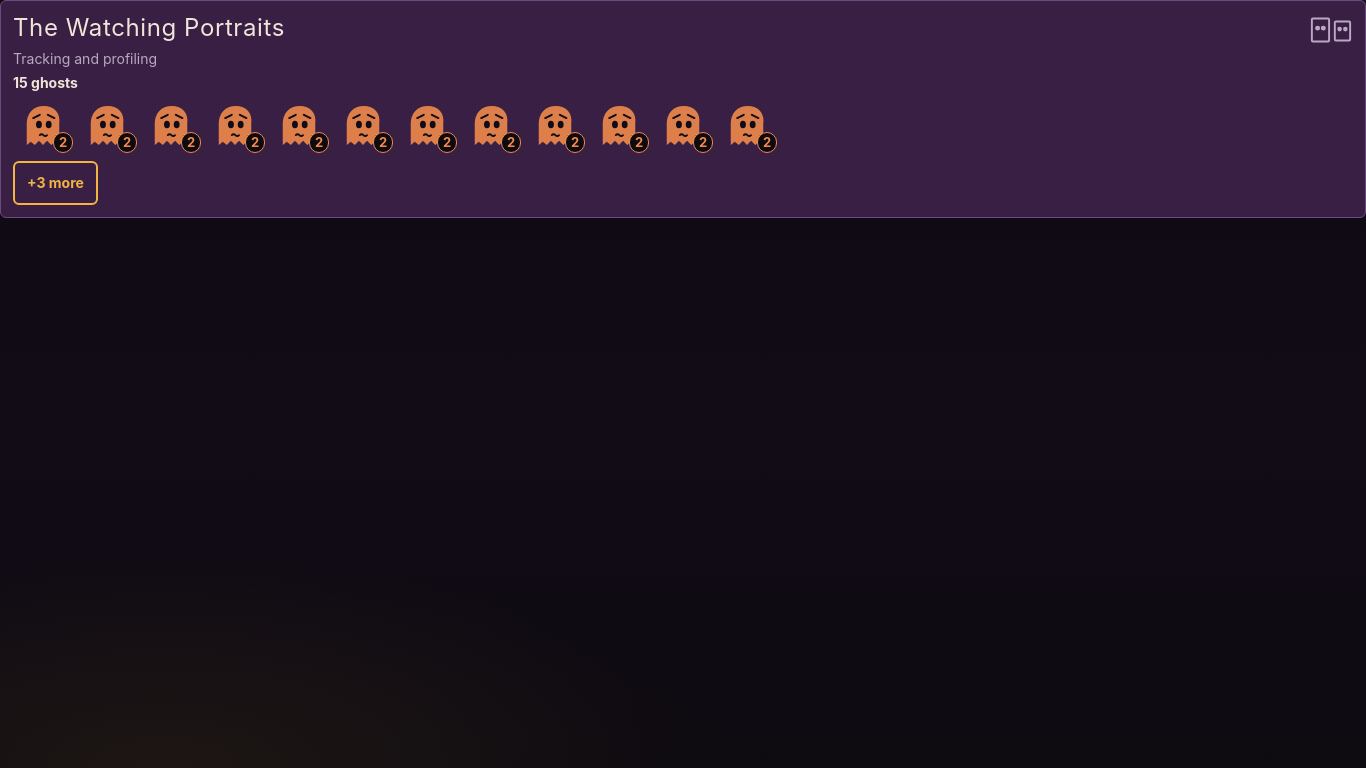
Test: Room with more than 12 ghosts (C22.2, C22.3) › expands in place by mouse, and collapses again
Click the button "+3 more". click: (55, 183)
box: [13,161,98,205]
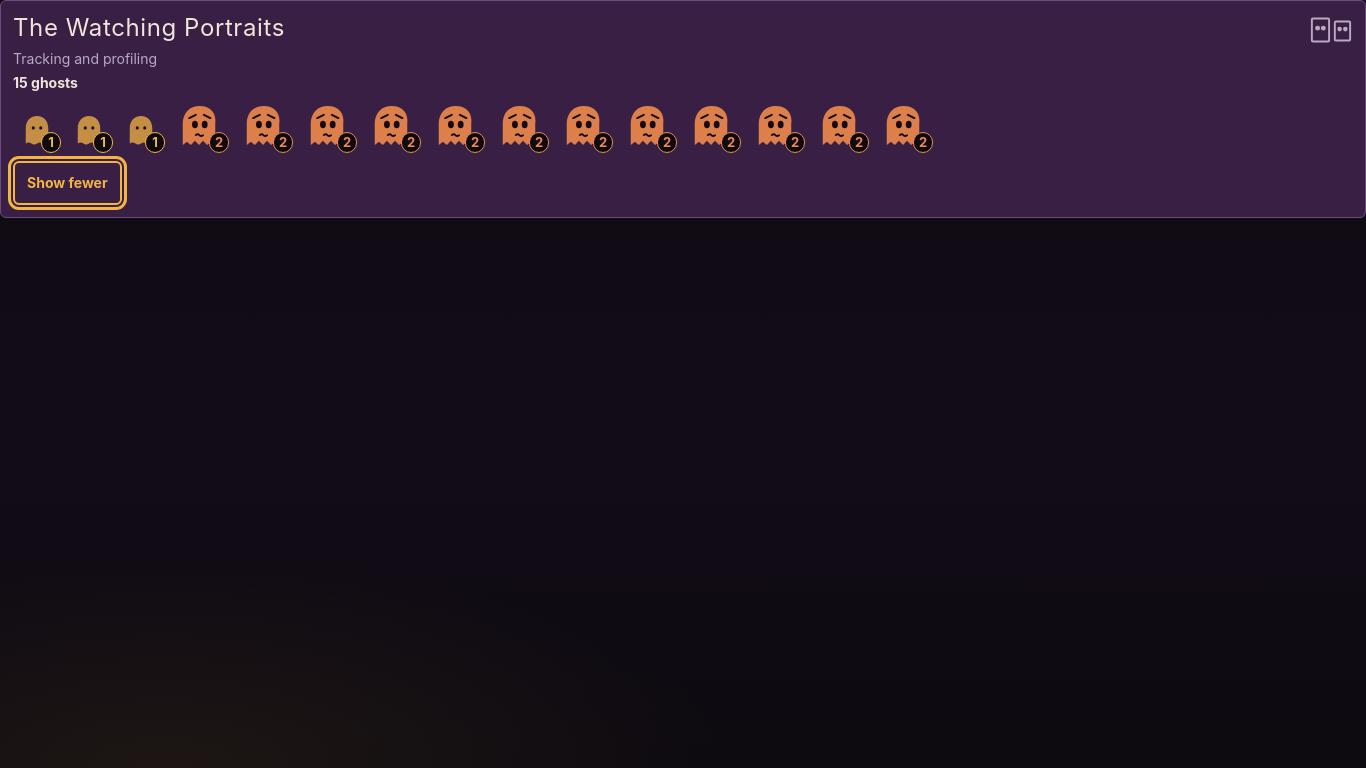
Now the button "Show fewer" is shown
Now the button "Show fewer" is expanded
Click the button "Show fewer". click: (67, 183)
box: [13,161,122,205]
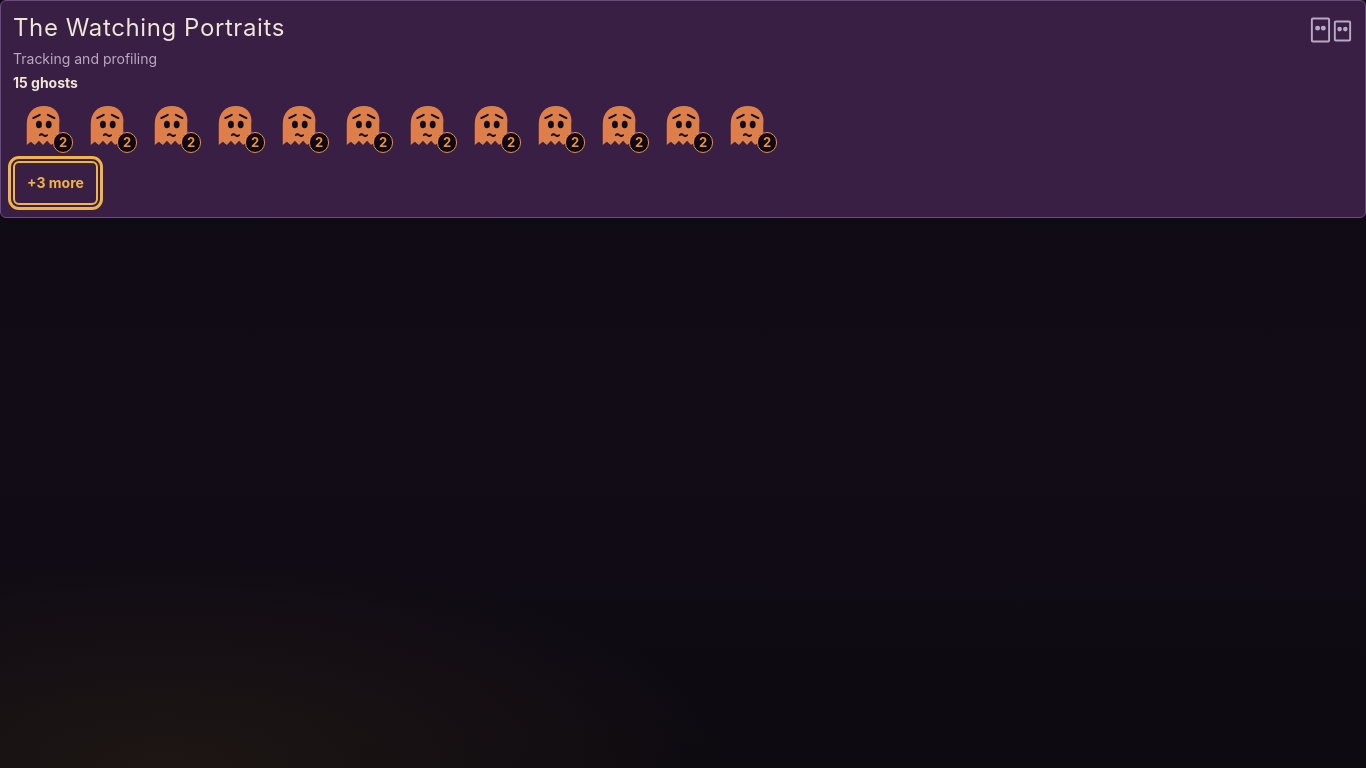
Now the button "+3 more" is collapsed, box [13,161,98,205]
